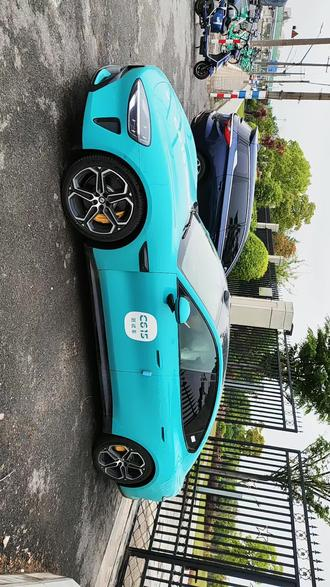su7: (61, 54, 217, 509)
